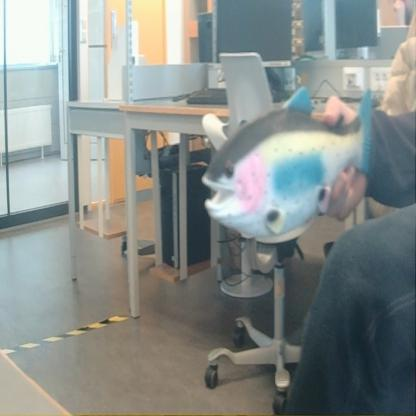rubberfish: (201, 82, 381, 244)
